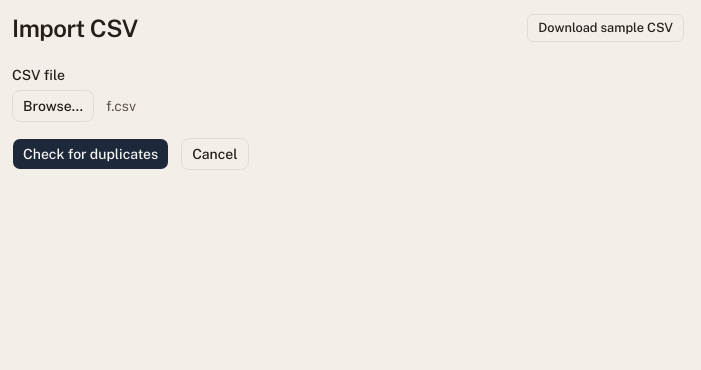
it: renders error text as text, not HTML
Earlier steps of the test are not shown.
Click the button "Check for duplicates" at x=91, y=154, box [12,138,169,170]
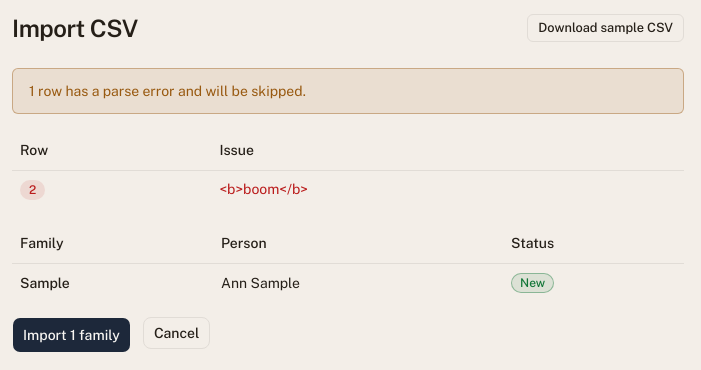
Expected: the button "Import 1 family" is shown, [12,317,131,353]
Expected: the text "<b>boom</b>" is shown, [211,170,684,208]
